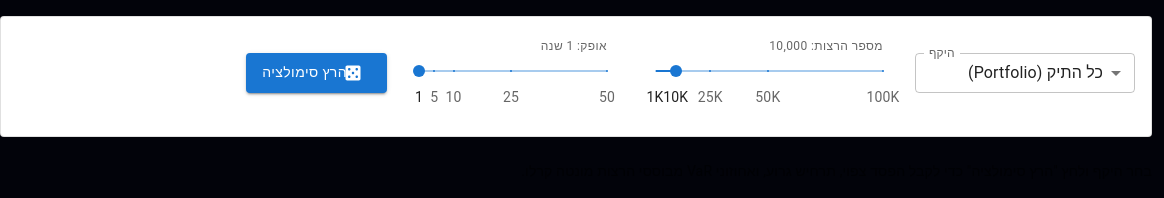
Scenario: Simulation › offers only properties that have a risk profile
Click the dropdown named "היקף" at (1036, 73), box [968,63,1103,82]
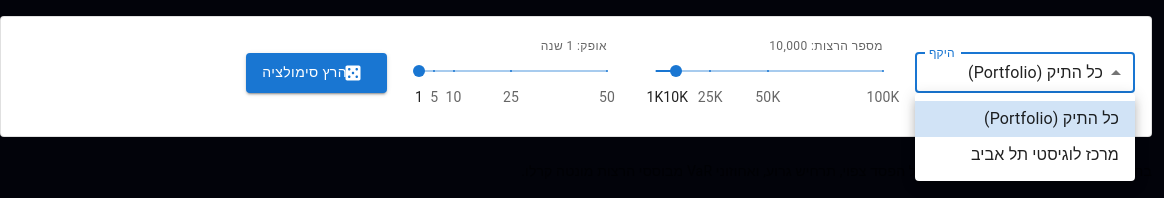
Check: the option "מרכז לוגיסטי תל אביב" is shown, box [971,145,1119,164]
